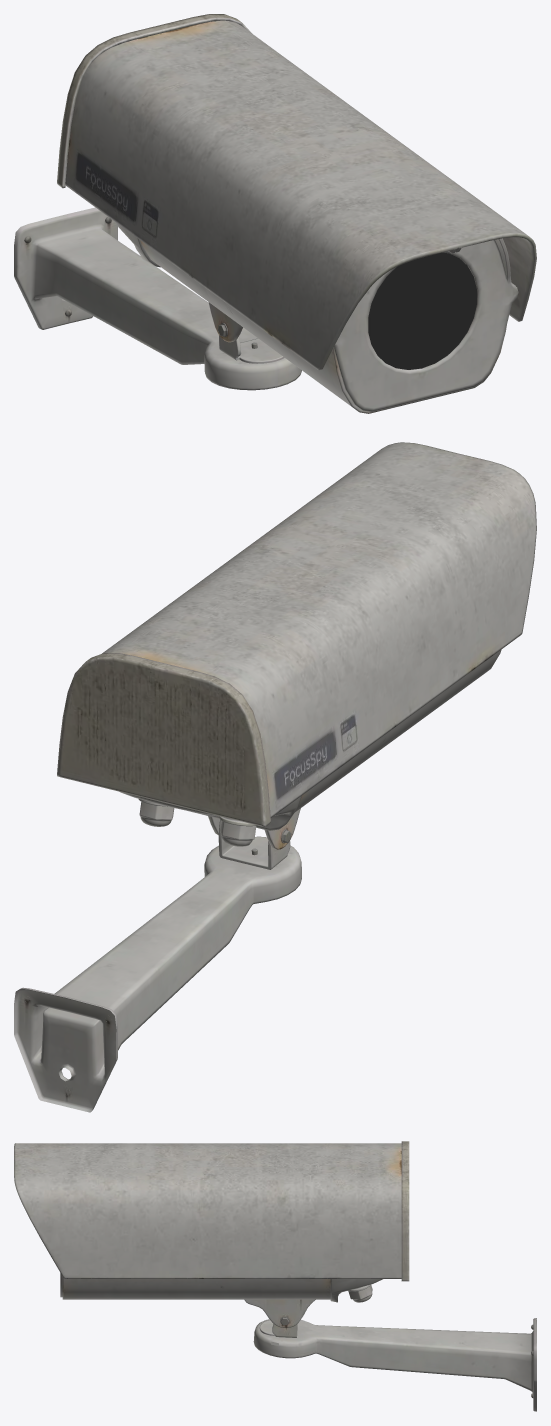
The model's file is security_camera_01.glb.
3 views of the same model, one above another, from view 1: azimuth 30°, elevation 25°; view 2: azimuth 150°, elevation 25°; view 3: azimuth 270°, elevation 25° (orthographic). The views are drawn at different scales.
Visible parts, largest first — view 1: security_camera_01; view 2: security_camera_01; view 3: security_camera_01.
Part boxes in pixels (left/top/right/bottom): security_camera_01: left=14, top=14, right=536, bottom=413; security_camera_01: left=14, top=442, right=536, bottom=1112; security_camera_01: left=14, top=1141, right=536, bottom=1411.
Size of the model in its own units: 0.1695 by 0.2861 by 0.5537.
Materials: 2 (2 with a texture image).
